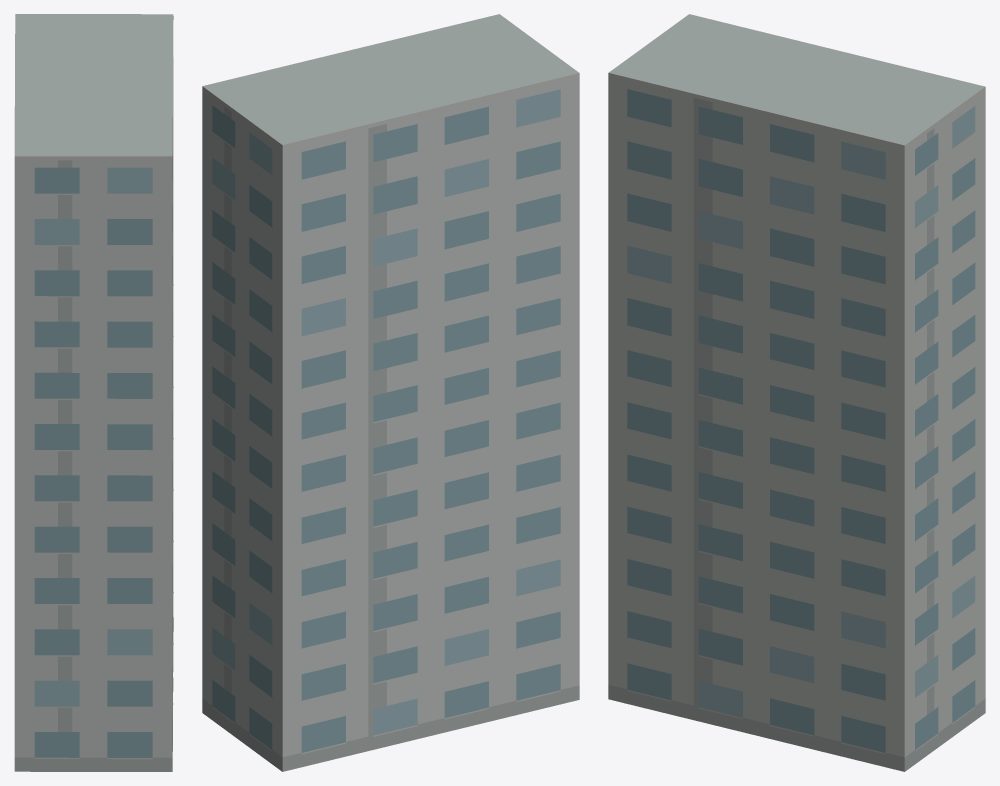
The model's file is residential-103ffad2-d03e-4d6d-a3a2-334c80415013.glb.
The picture shows the model from 3 angles, left to right: view 1: azimuth 30°, elevation 25°; view 2: azimuth 150°, elevation 25°; view 3: azimuth 270°, elevation 25°; orthographic projection.
Visible parts, largest first — view 1: residential-103ffad2-d03e-4d6d-a3a2-334c80415013.tmp; view 2: residential-103ffad2-d03e-4d6d-a3a2-334c80415013.tmp; view 3: residential-103ffad2-d03e-4d6d-a3a2-334c80415013.tmp.
Part boxes in pixels (<box>): residential-103ffad2-d03e-4d6d-a3a2-334c80415013.tmp: <box>14,14,173,771</box>; residential-103ffad2-d03e-4d6d-a3a2-334c80415013.tmp: <box>202,14,579,771</box>; residential-103ffad2-d03e-4d6d-a3a2-334c80415013.tmp: <box>608,14,985,771</box>.
Bounding box in the file's own units: 17.11 × 38 × 20.74.
